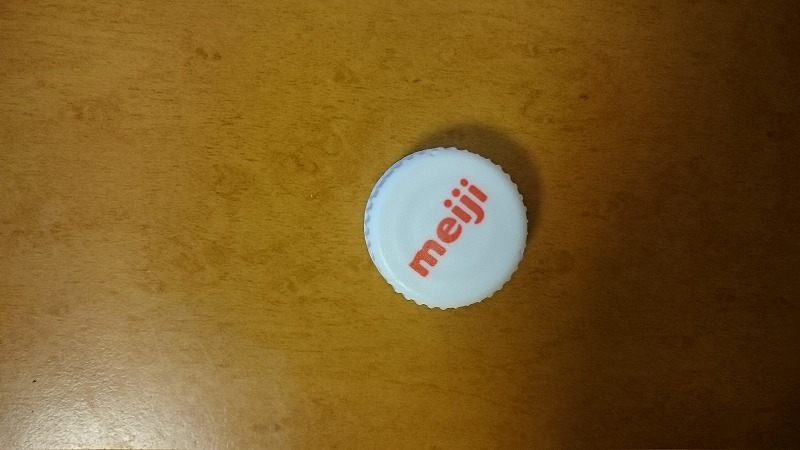B: (356, 137, 534, 320)
